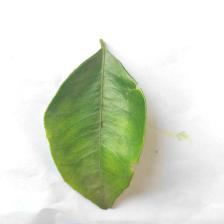greening: (44, 89, 156, 198)
